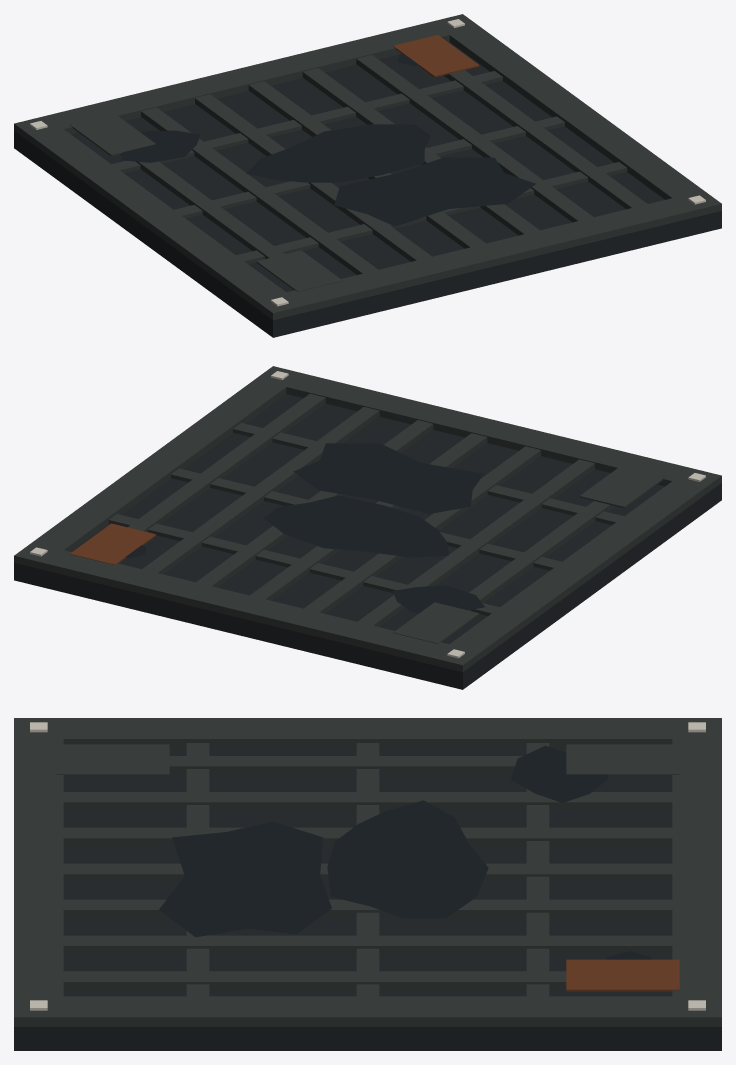
Rendered from floor_tile_wet.glb.
The picture shows the model from 3 angles, top to bottom: view 1: azimuth 30°, elevation 25°; view 2: azimuth 150°, elevation 25°; view 3: azimuth 270°, elevation 25°; orthographic projection. The views are drawn at different scales.
Visible parts, largest first — view 1: floor_tile_wet; view 2: floor_tile_wet; view 3: floor_tile_wet.
Part boxes in pixels (<box>): floor_tile_wet: <box>14,14,721,337</box>; floor_tile_wet: <box>14,366,721,689</box>; floor_tile_wet: <box>14,718,721,1050</box>.
Size of the model in its own units: 2 by 0.128 by 2.
